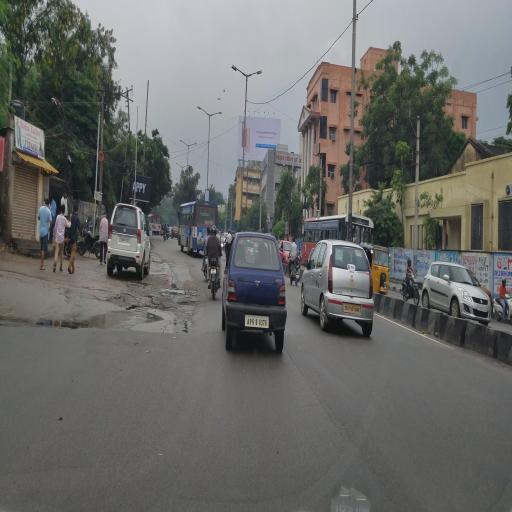street_light_0: (231, 52, 249, 82), (247, 59, 263, 87), (193, 99, 210, 125), (208, 103, 226, 126), (179, 135, 193, 151), (187, 136, 200, 152)
